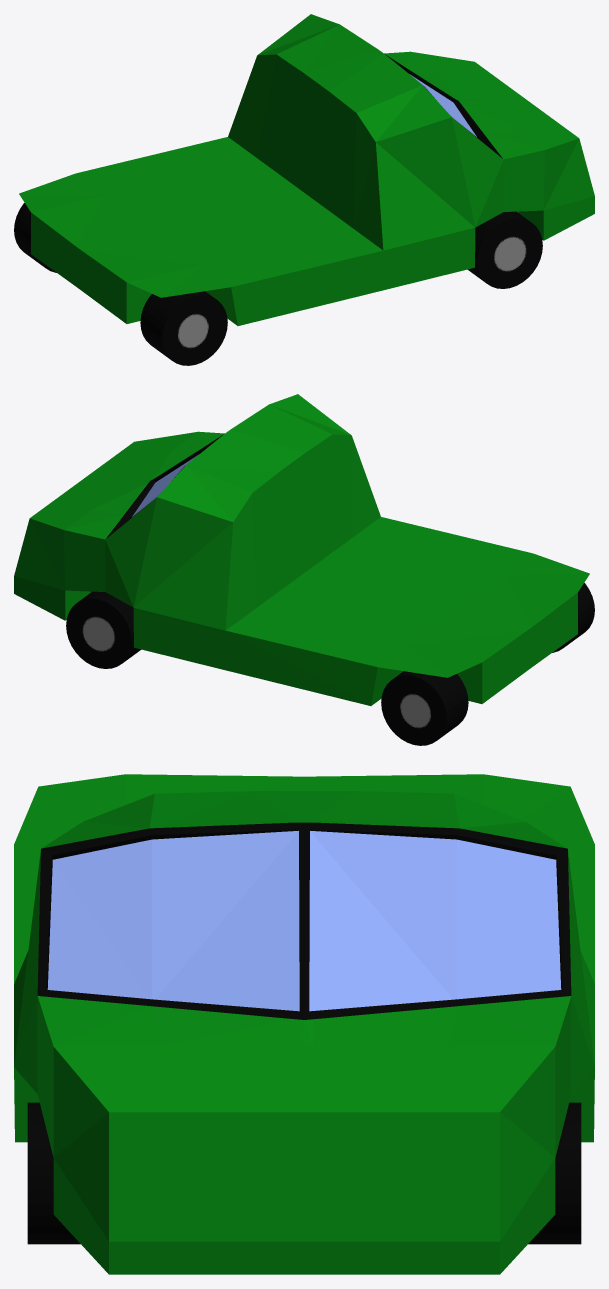
File: truck.obj
The picture shows the model from 3 angles, top to bottom: view 1: azimuth 30°, elevation 25°; view 2: azimuth 150°, elevation 25°; view 3: azimuth 270°, elevation 25°; orthographic projection. The views are drawn at different scales.
Visible parts, largest first — view 1: Plane; view 2: Plane; view 3: Plane.
Boxes of the visible parts, left/top/right/bottom form: Plane: left=14, top=14, right=594, bottom=365; Plane: left=14, top=394, right=594, bottom=745; Plane: left=14, top=774, right=594, bottom=1274.
Bounding box in the file's own units: 0.992 × 0.3996 × 0.5758.
